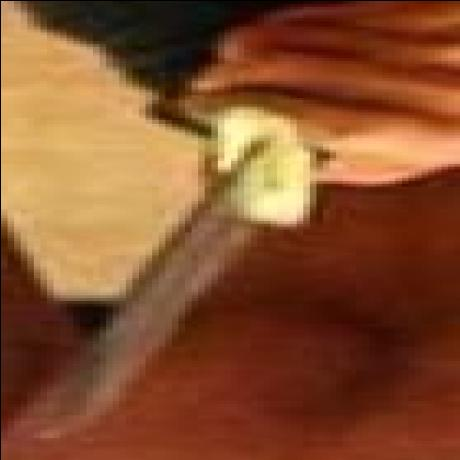weapon: (38, 134, 339, 433)
